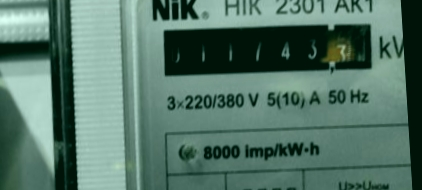0: (168, 37, 184, 65)
1: (195, 35, 211, 64), (223, 34, 238, 63)
3: (304, 33, 320, 61), (334, 42, 350, 63)
4: (278, 36, 294, 62)
7: (250, 36, 266, 62)
screen: (154, 11, 384, 88)
